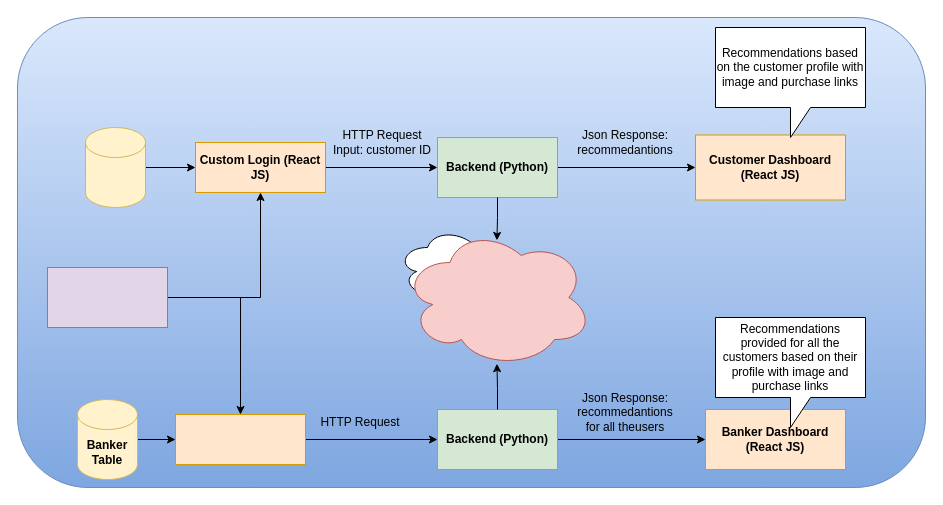
Some shapes in this 943 by 505 pixel diagram are drawn without their labels. The box of each missing label's shape, as (x1, y1, x2, y2) in pixels:
Banker Login (React JS): (174, 414, 306, 464)
Customer Table: (84, 126, 146, 208)
Gemini AI / GCP Search Engine: (402, 226, 592, 368)
Welcome Page (React JS): (46, 266, 168, 328)
